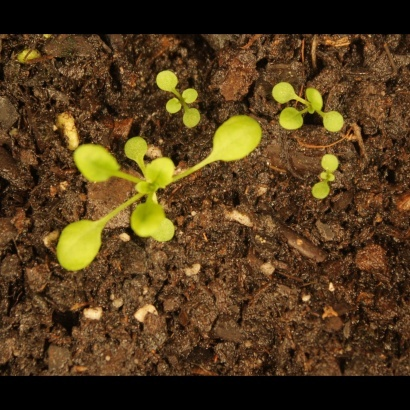leaf: (210, 112, 269, 171), (46, 219, 107, 274), (68, 136, 120, 192), (127, 198, 165, 245), (145, 150, 176, 199), (151, 65, 190, 96), (275, 102, 306, 135), (149, 216, 182, 245), (321, 107, 347, 141), (182, 76, 212, 105), (118, 135, 150, 161), (304, 82, 327, 116), (181, 107, 206, 135), (270, 81, 298, 105), (129, 170, 153, 197), (160, 96, 183, 123), (319, 149, 342, 174), (308, 182, 331, 205)
